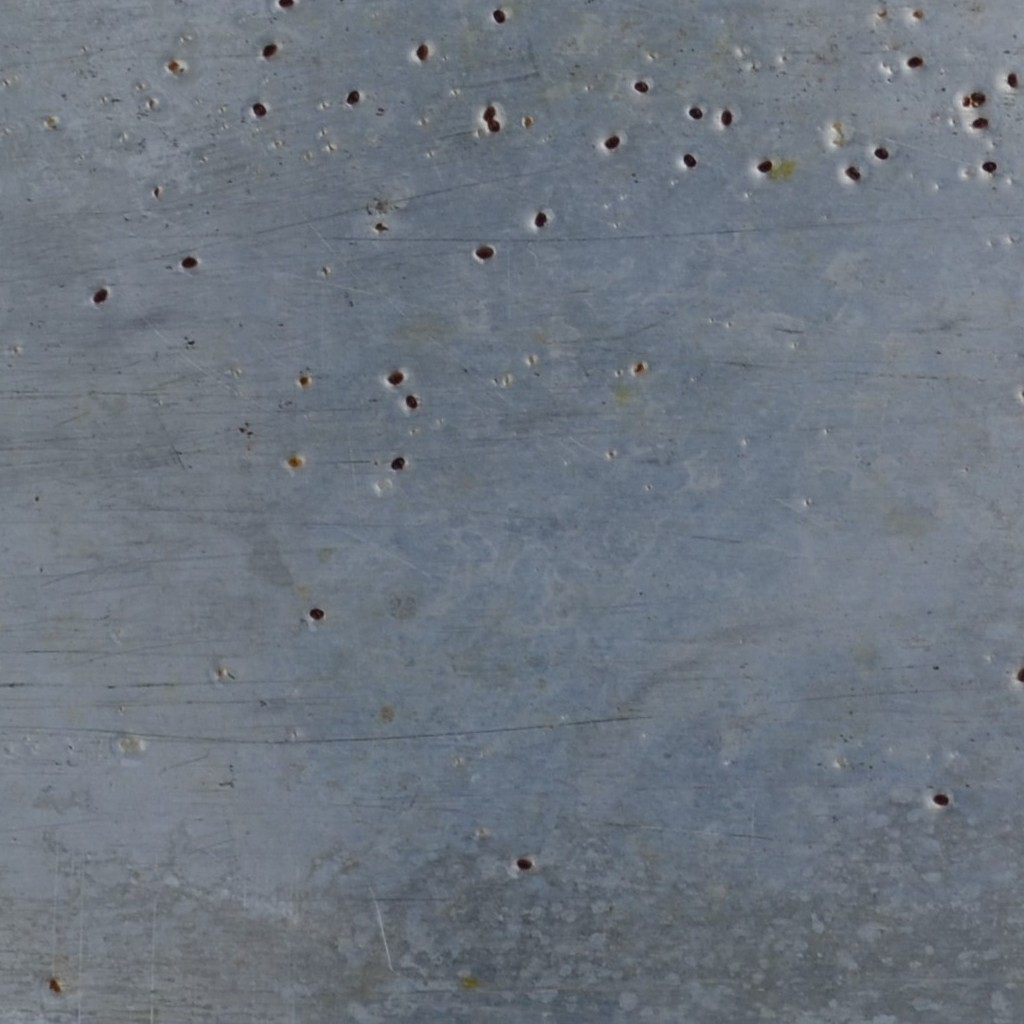varroa: (843, 158, 863, 186), (753, 154, 774, 178), (681, 147, 699, 175), (931, 786, 950, 812), (603, 126, 621, 152), (474, 242, 495, 264), (687, 101, 706, 124), (531, 205, 549, 228), (482, 98, 499, 122), (415, 41, 431, 66), (906, 52, 925, 72), (385, 367, 405, 386), (873, 142, 891, 162), (92, 285, 110, 305), (403, 390, 420, 410), (721, 104, 735, 128), (1005, 68, 1018, 93), (308, 603, 326, 621), (516, 855, 535, 872), (631, 75, 650, 92), (389, 454, 406, 473), (259, 41, 278, 58), (346, 86, 360, 109), (179, 253, 199, 269), (490, 5, 507, 23), (971, 113, 990, 129), (980, 157, 997, 174), (251, 100, 268, 117), (971, 87, 986, 106), (275, 1, 298, 12), (486, 120, 501, 134), (1015, 663, 1023, 687)
